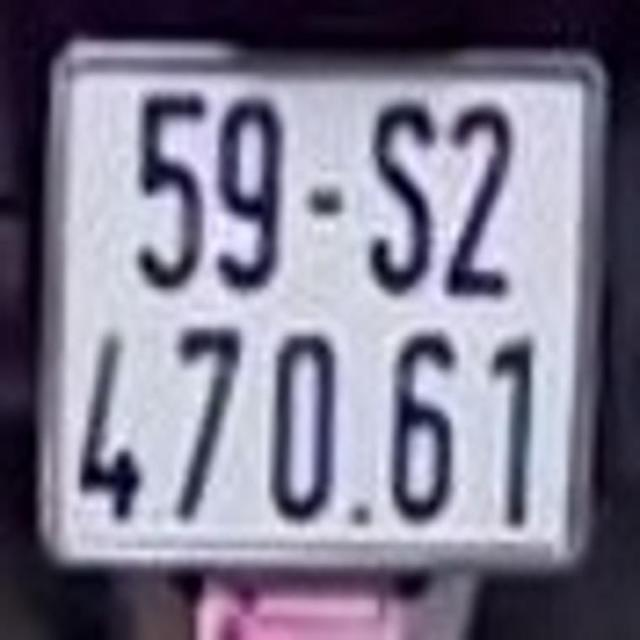0: (269, 327, 336, 523)
1: (485, 330, 542, 529)
2: (446, 100, 513, 300)
4: (75, 329, 144, 525)
5: (132, 84, 208, 291)
6: (388, 325, 458, 524)
7: (171, 320, 244, 522)
9: (215, 92, 282, 292)
S: (367, 97, 436, 294)
